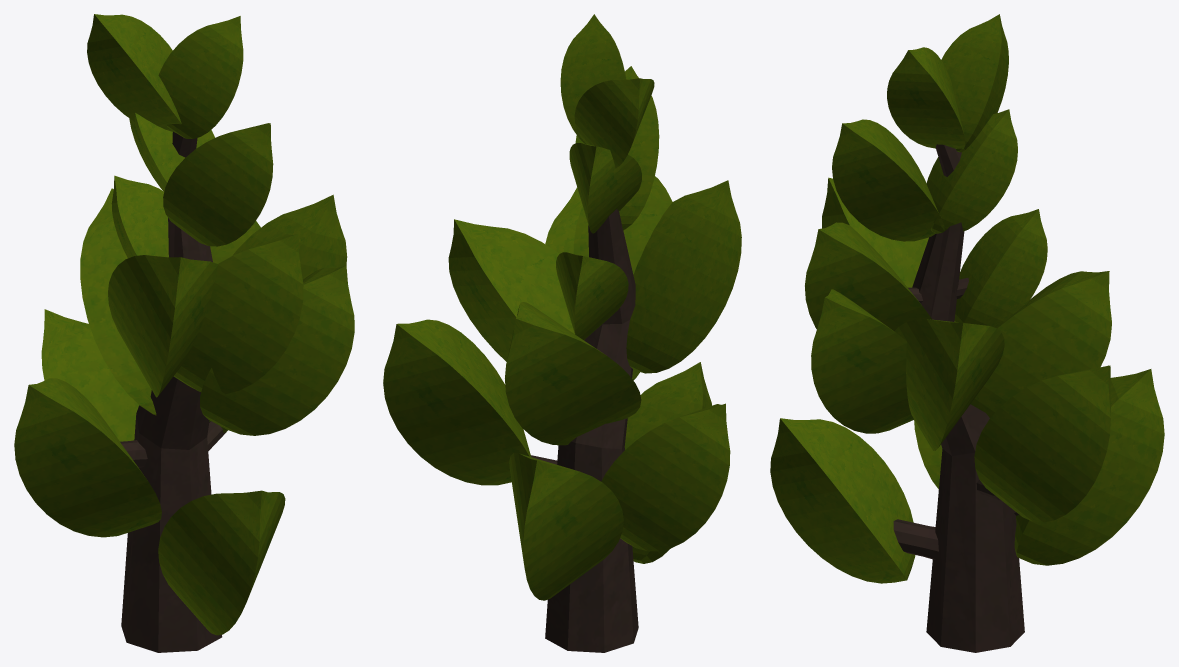
File: tree-lime-green-flowers_5.fbx
3 views of the same model, side by side, from view 1: azimuth 30°, elevation 25°; view 2: azimuth 150°, elevation 25°; view 3: azimuth 270°, elevation 25° (orthographic). The views are drawn at different scales.
Visible parts, largest first — view 1: Icosphere.093; view 2: Icosphere.093; view 3: Icosphere.093.
Boxes of the visible parts, x1=… form: Icosphere.093: x1=14, y1=14, x2=354, y2=652; Icosphere.093: x1=383, y1=14, x2=741, y2=652; Icosphere.093: x1=770, y1=14, x2=1164, y2=652.
Size of the model in its own units: 123 by 234 by 140.
